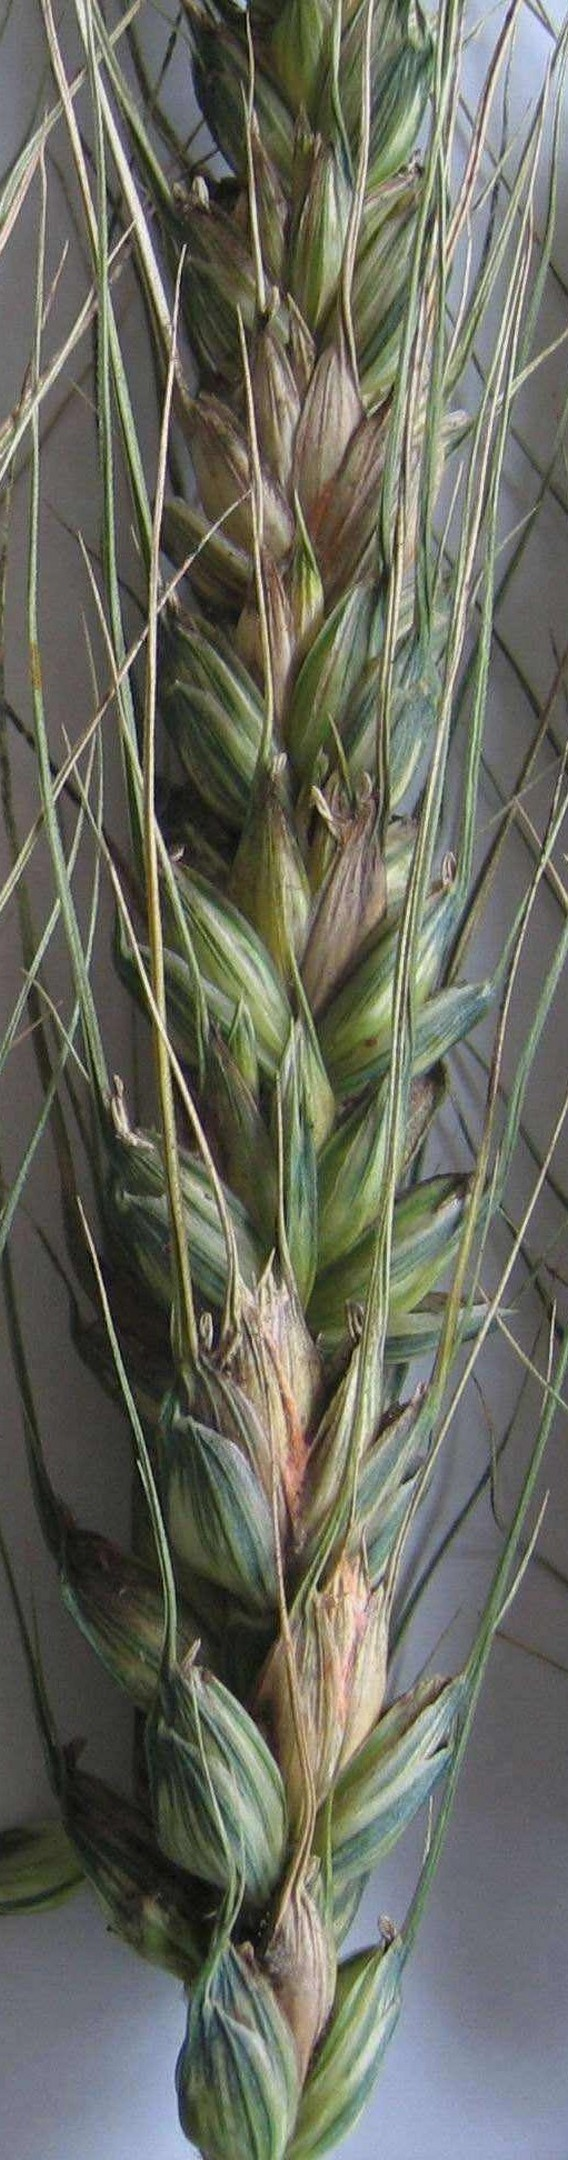Wheat scab: (55, 32, 523, 2160)
